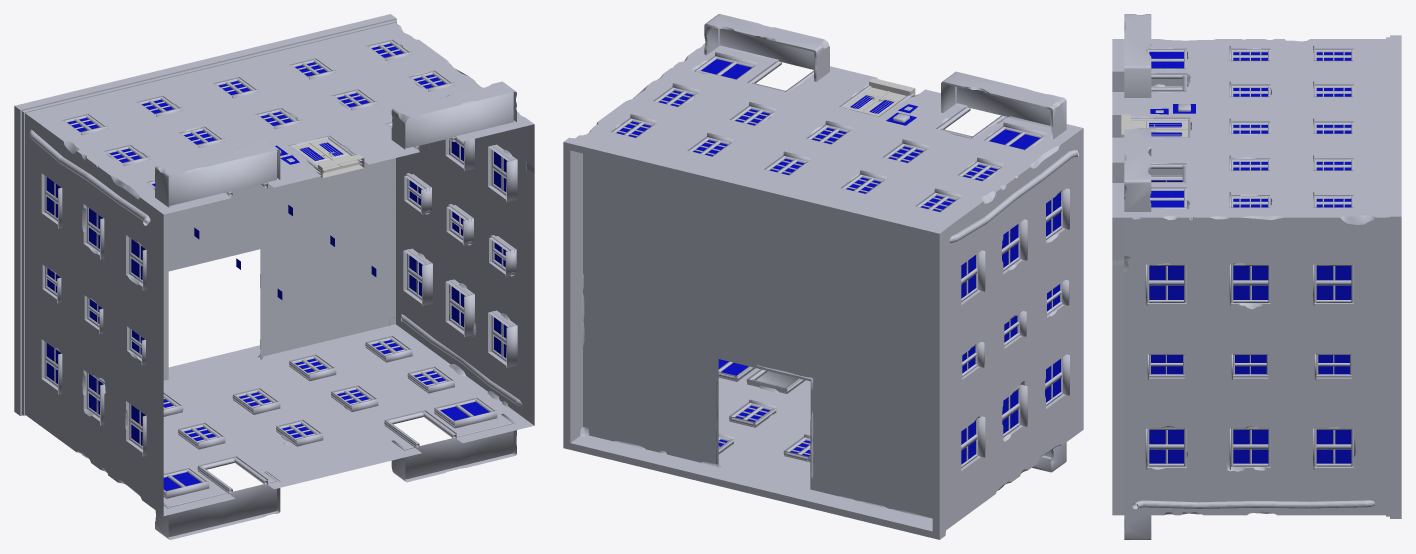
The picture shows the model from 3 angles, left to right: view 1: azimuth 30°, elevation 25°; view 2: azimuth 150°, elevation 25°; view 3: azimuth 270°, elevation 25°; orthographic projection.
Visible parts, largest first — view 1: outerwall, Transp; view 2: outerwall, Transp; view 3: outerwall, Transp, doorEntry_L.
Boxes of the visible parts, x1,y1,x2,y2 form: outerwall: (14,14,534,539); Transp: (46,43,507,490); outerwall: (563,14,1083,539); Transp: (616,59,1060,464); outerwall: (1112,14,1401,539); Transp: (1149,52,1351,463); doorEntry_L: (1131,120,1188,129).
Bounding box in the file's own units: 2049 × 1853 × 1352.
